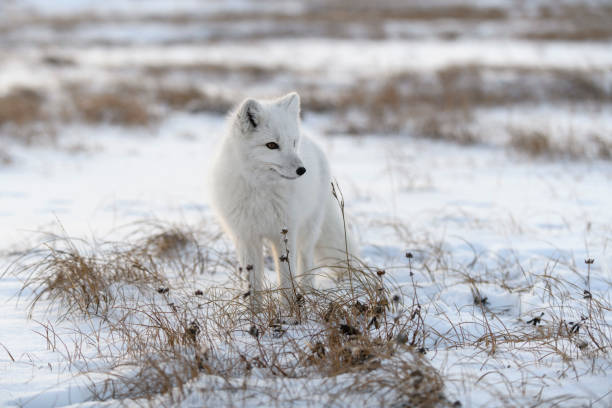arcticfox: (243, 108, 316, 186)
